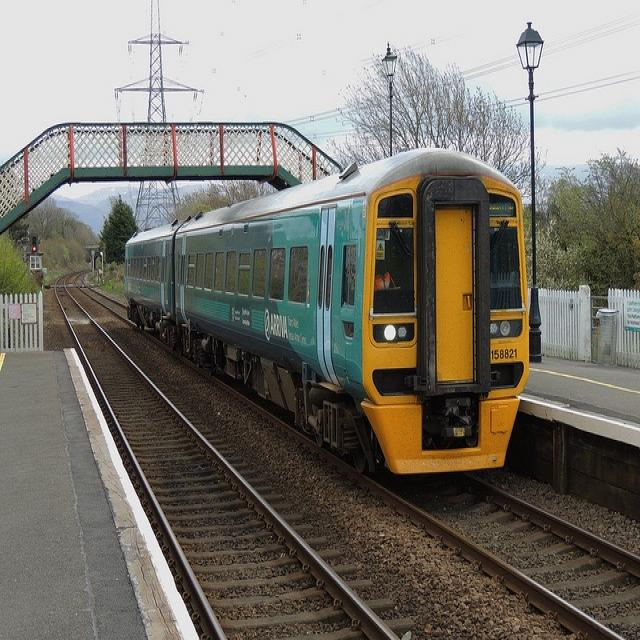pole: (523, 68, 547, 361)
